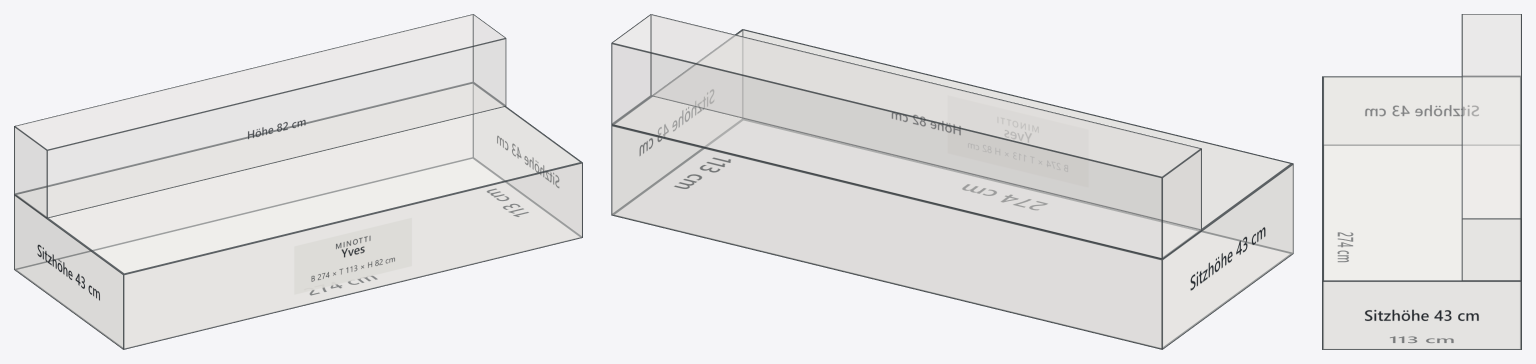
File: sofas-yves--suite-daybed-sofa-mix-274-cm.glb
3 renders of one model, left to right at view 1: azimuth 30°, elevation 25°; view 2: azimuth 150°, elevation 25°; view 3: azimuth 270°, elevation 25°, orthographic. The views are drawn at different scales.
Parts seen in each view (by area): view 1: sitz_oben, Grundflaeche, sitz_vorne, sitz_hinten, ruecken_vorne, ruecken_hinten, ruecken_oben, sitz_links, sitz_rechts, ruecken_links, ruecken_rechts; view 2: Grundflaeche, sitz_oben, sitz_hinten, ruecken_hinten, ruecken_vorne, ruecken_oben, sitz_vorne, sitz_links, sitz_rechts, ruecken_links, ruecken_rechts; view 3: sitz_oben, Grundflaeche, sitz_rechts, sitz_links, ruecken_oben, ruecken_rechts, ruecken_links.
Boxes of the visible parts, left/top/right/bottom form: sitz_oben: left=15, top=82, right=582, bottom=274; Grundflaeche: left=15, top=157, right=581, bottom=348; sitz_vorne: left=123, top=162, right=582, bottom=349; sitz_hinten: left=14, top=84, right=473, bottom=269; ruecken_vorne: left=47, top=38, right=506, bottom=218; ruecken_hinten: left=14, top=14, right=473, bottom=193; ruecken_oben: left=14, top=14, right=505, bottom=149; sitz_links: left=14, top=194, right=123, bottom=349; sitz_rechts: left=473, top=85, right=581, bottom=236; ruecken_links: left=14, top=126, right=46, bottom=218; ruecken_rechts: left=473, top=15, right=505, bottom=105; Grundflaeche: left=612, top=119, right=1292, bottom=348; sitz_oben: left=613, top=29, right=1293, bottom=257; sitz_hinten: left=611, top=125, right=1162, bottom=349; ruecken_hinten: left=611, top=43, right=1162, bottom=259; ruecken_vorne: left=650, top=14, right=1201, bottom=229; ruecken_oben: left=611, top=14, right=1201, bottom=177; sitz_vorne: left=742, top=30, right=1292, bottom=252; sitz_links: left=1162, top=163, right=1293, bottom=349; sitz_rechts: left=612, top=31, right=742, bottom=213; ruecken_links: left=1162, top=148, right=1201, bottom=259; ruecken_rechts: left=612, top=15, right=650, bottom=123; sitz_oben: left=1322, top=76, right=1520, bottom=280; Grundflaeche: left=1323, top=145, right=1520, bottom=348; sitz_rechts: left=1322, top=281, right=1521, bottom=349; sitz_links: left=1324, top=77, right=1519, bottom=144; ruecken_oben: left=1461, top=14, right=1521, bottom=218; ruecken_rechts: left=1461, top=218, right=1521, bottom=280; ruecken_links: left=1462, top=14, right=1520, bottom=76.
Size of the model in its own units: 2.74 by 0.82 by 1.13.
Materials: 11 (11 with a texture image).
